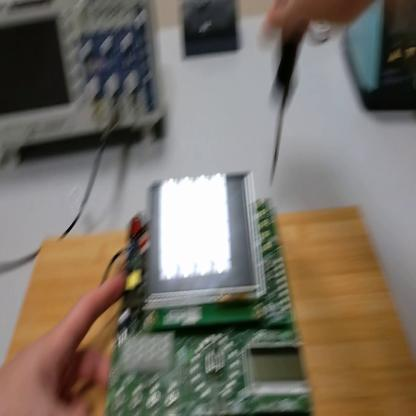hand: (2, 268, 132, 411), (256, 1, 375, 44)
low voltage board: (90, 168, 304, 416)
oscilloscope: (3, 7, 168, 154)
screwdriver-: (270, 4, 306, 183)
welder station: (344, 1, 415, 111)
working area: (1, 205, 416, 415)
